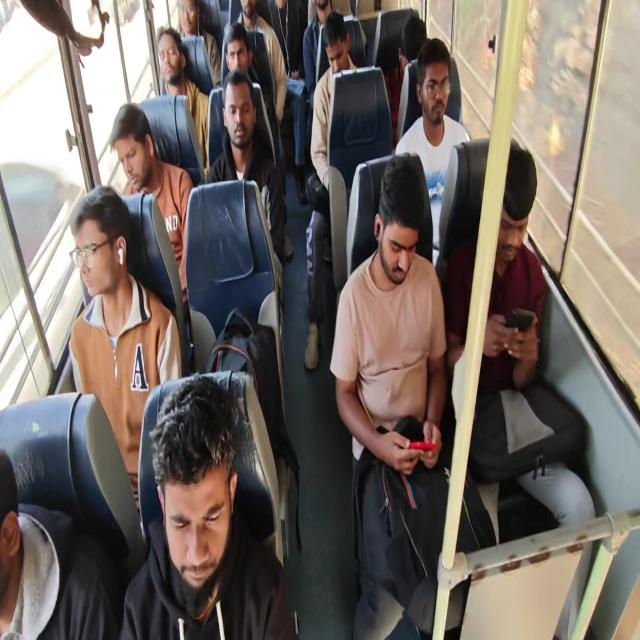person: (330, 153, 498, 638), (442, 138, 596, 638), (119, 373, 295, 639), (68, 184, 182, 519), (0, 448, 117, 639), (303, 11, 359, 370), (394, 37, 472, 267), (109, 102, 194, 310), (206, 68, 286, 263), (257, 0, 309, 205), (221, 22, 279, 166), (156, 26, 209, 171), (385, 13, 427, 146), (302, 0, 334, 174), (20, 0, 109, 57), (176, 0, 221, 88)
